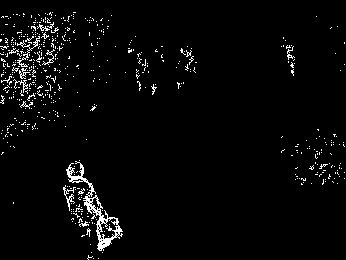person: (64, 161, 123, 260)
